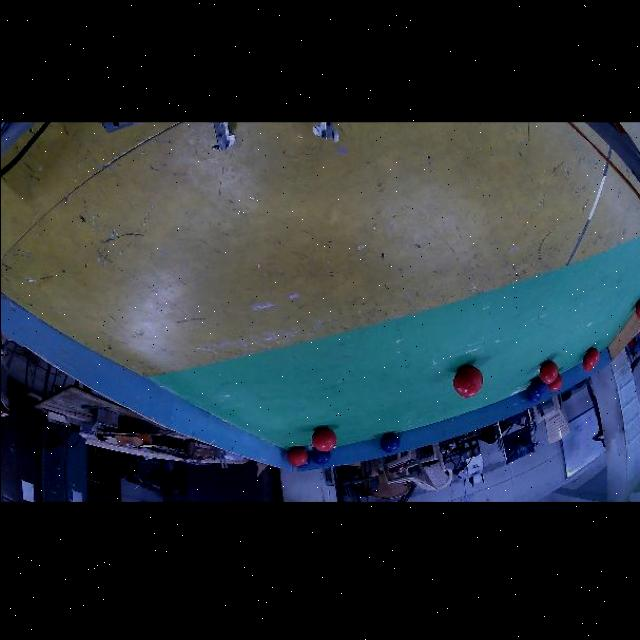P: (380, 433, 400, 452), (528, 377, 547, 396), (310, 448, 330, 465), (527, 389, 541, 403), (298, 453, 310, 469)
R: (453, 366, 483, 398), (312, 428, 337, 452), (286, 446, 308, 466), (540, 361, 558, 384), (585, 347, 599, 365), (548, 374, 562, 391), (582, 357, 594, 371), (635, 300, 640, 320)
